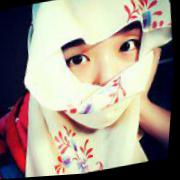WRONG: (50, 13, 160, 137)
